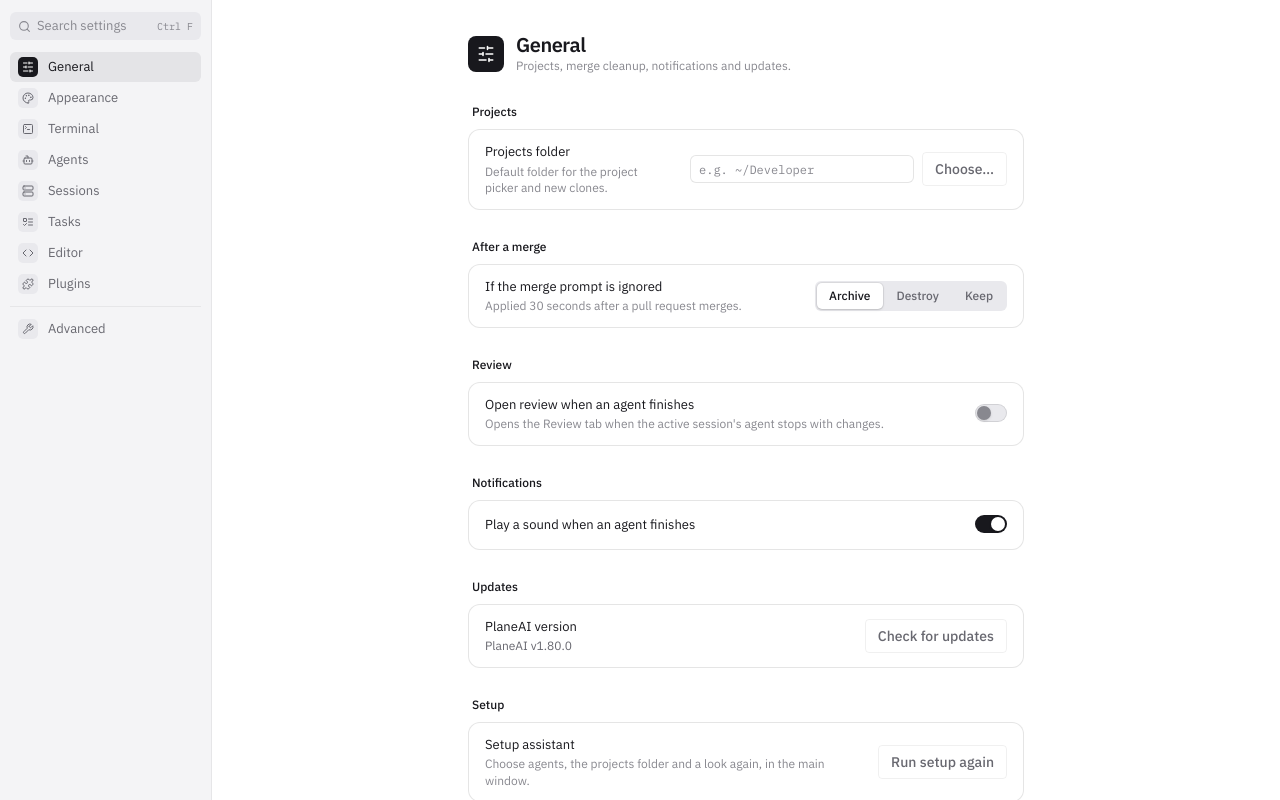
Test case: search › says when nothing matches
The image size is (1280, 800).
In the field named "Search settings": [94, 26] box [37,16,151,36], type "zzzz"
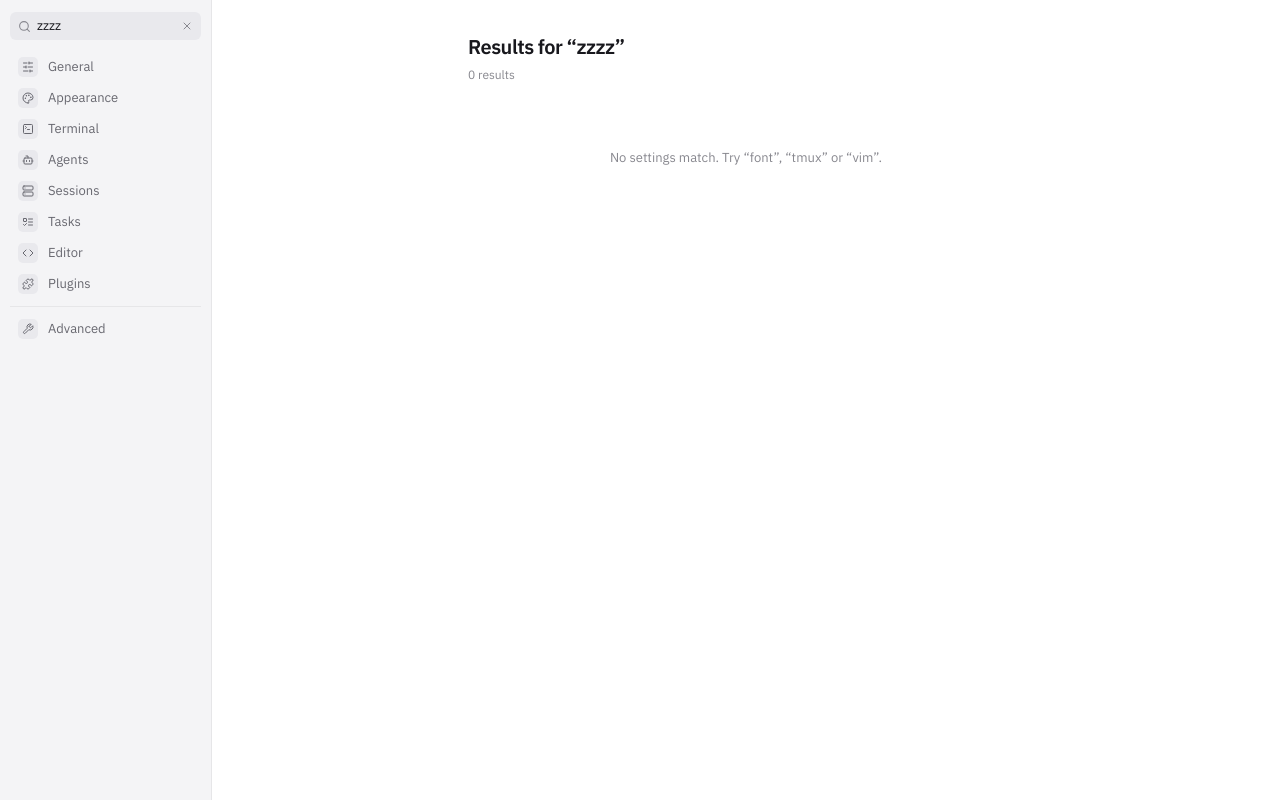
Now the text "No settings match" is shown, box [610,149,882,166]
